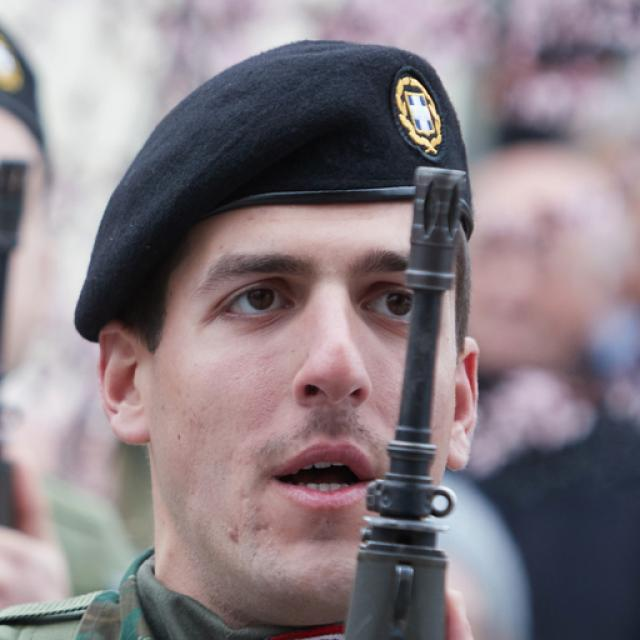surprise: (150, 187, 460, 618)
